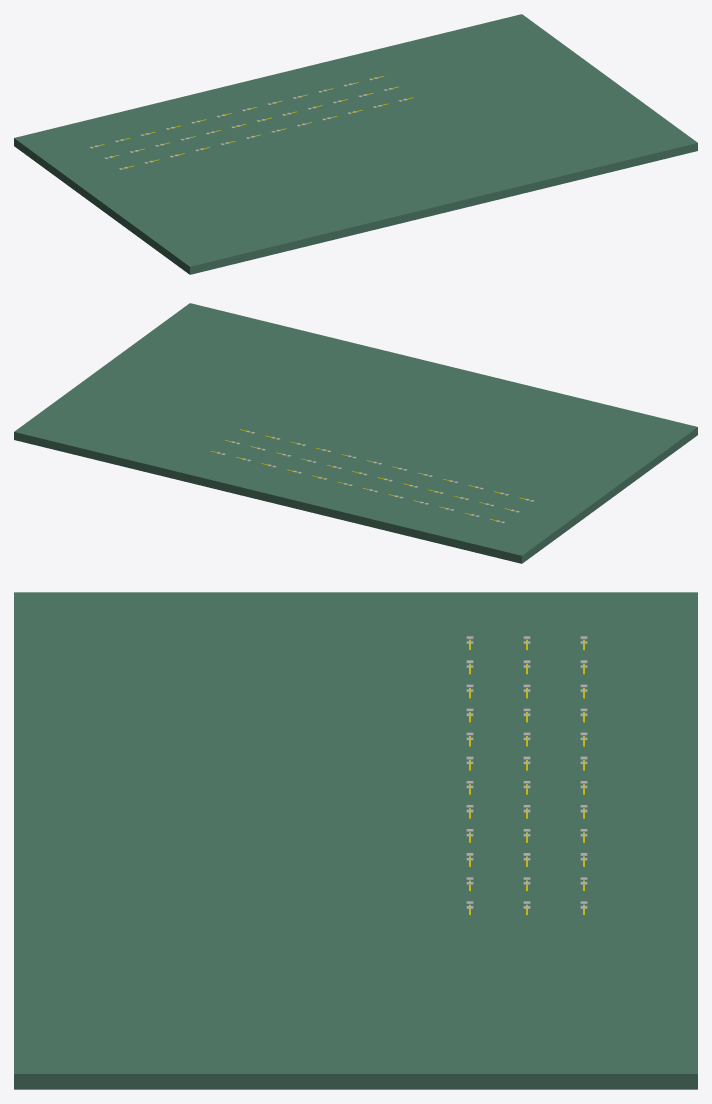
Rendered from board.glb.
The picture shows the model from 3 angles, top to bottom: view 1: azimuth 30°, elevation 25°; view 2: azimuth 150°, elevation 25°; view 3: azimuth 270°, elevation 25°; orthographic projection. The views are drawn at different scales.
Parts seen in each view (by area): view 1: board_PCB, board_pad, board_copper; view 2: board_PCB, board_pad, board_copper; view 3: board_PCB, board_pad.
Boxes of the visible parts, x1,y1,x2,y2 form: board_PCB: (14, 14, 697, 274); board_pad: (89, 77, 407, 169); board_copper: (94, 76, 413, 168); board_PCB: (14, 303, 697, 563); board_pad: (216, 430, 534, 523); board_copper: (210, 429, 530, 521); board_PCB: (14, 592, 697, 1089); board_pad: (466, 636, 587, 908).
Bounding box in the file's own units: 0.1 × 0.00157 × 0.06.
